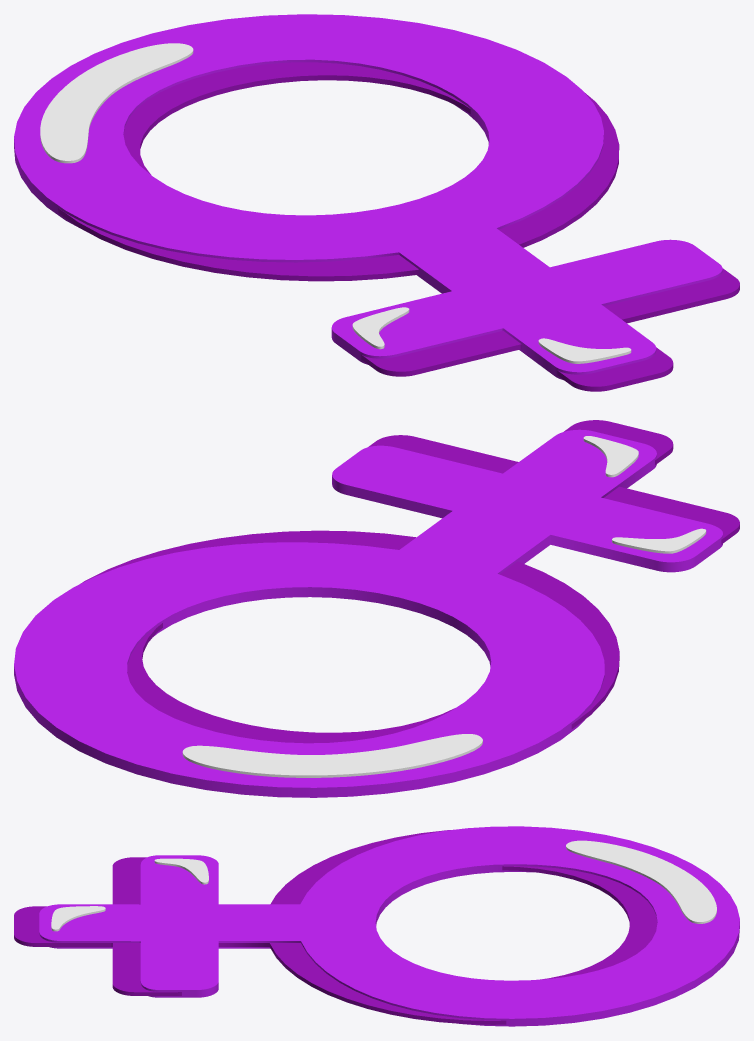
File: emoji_u2640.glb
The picture shows the model from 3 angles, top to bottom: view 1: azimuth 30°, elevation 25°; view 2: azimuth 150°, elevation 25°; view 3: azimuth 270°, elevation 25°; orthographic projection. The views are drawn at different scales.
Visible parts, largest first — view 1: emoji_u2640; view 2: emoji_u2640; view 3: emoji_u2640.
Boxes of the visible parts, bbox=[...] form: emoji_u2640: bbox=[14, 14, 739, 391]; emoji_u2640: bbox=[14, 420, 739, 797]; emoji_u2640: bbox=[14, 826, 739, 1026].
Bounding box in the file's own units: 0.0215 × 0.0006 × 0.0342.
